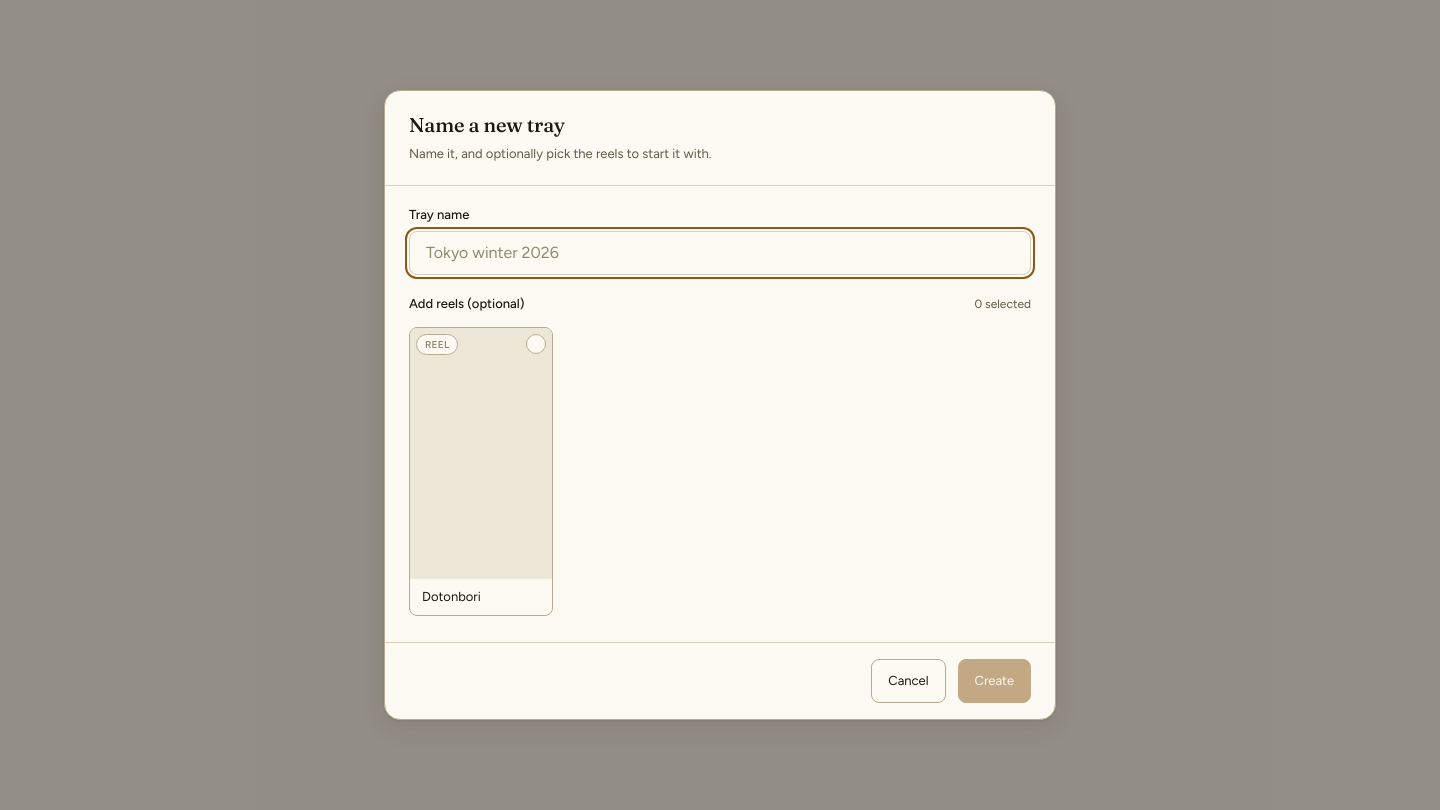
Test: CreateTrayDialog › disables the name input once the tray exists (partial-failure retry state)
Step 1. Click the button with aria-label "Select Dotonbori" → [481, 471], box x1=409 y1=327 x2=552 y2=616
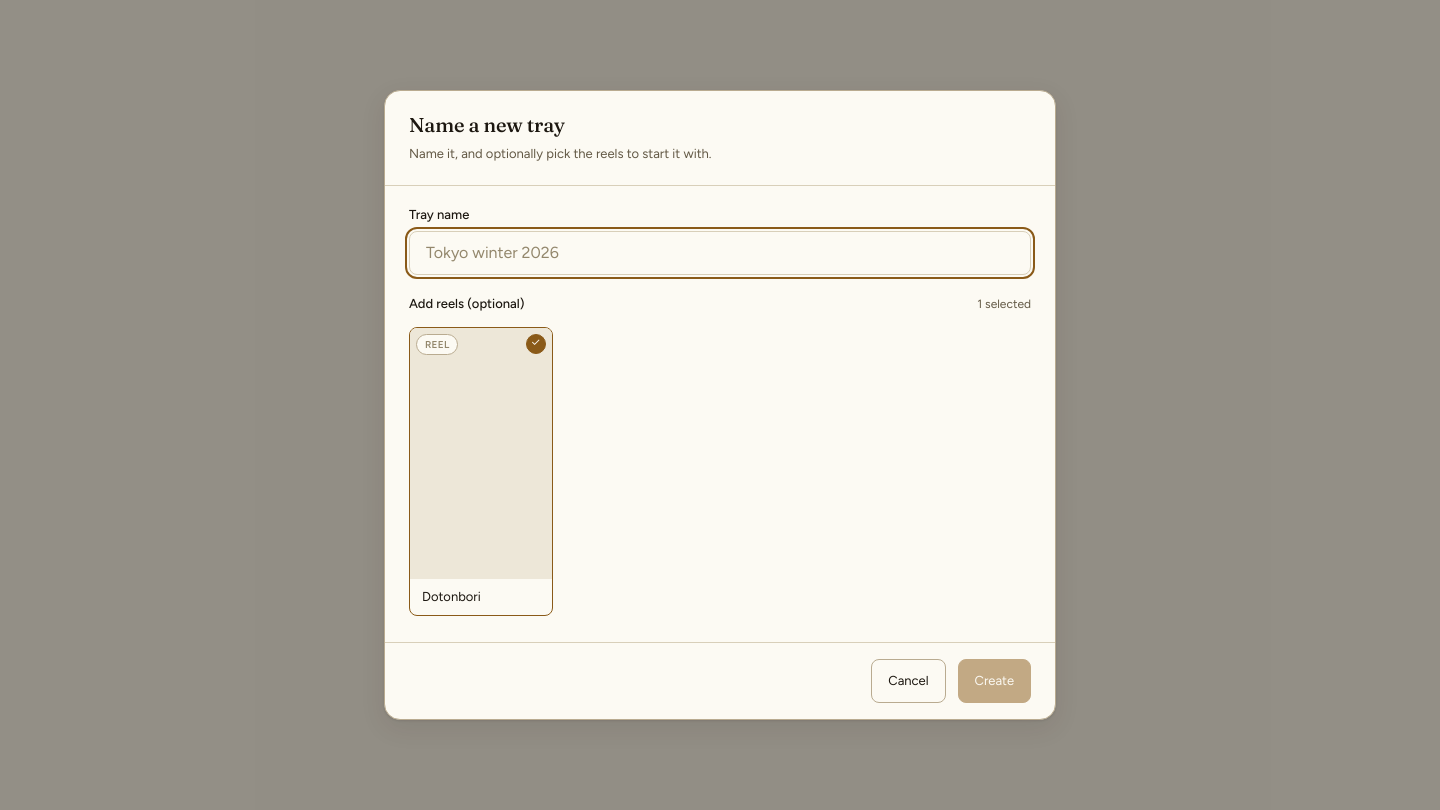
Step 2. Type "Osaka" into the field labelled "Tray name" → [720, 253], box x1=409 y1=231 x2=1031 y2=275
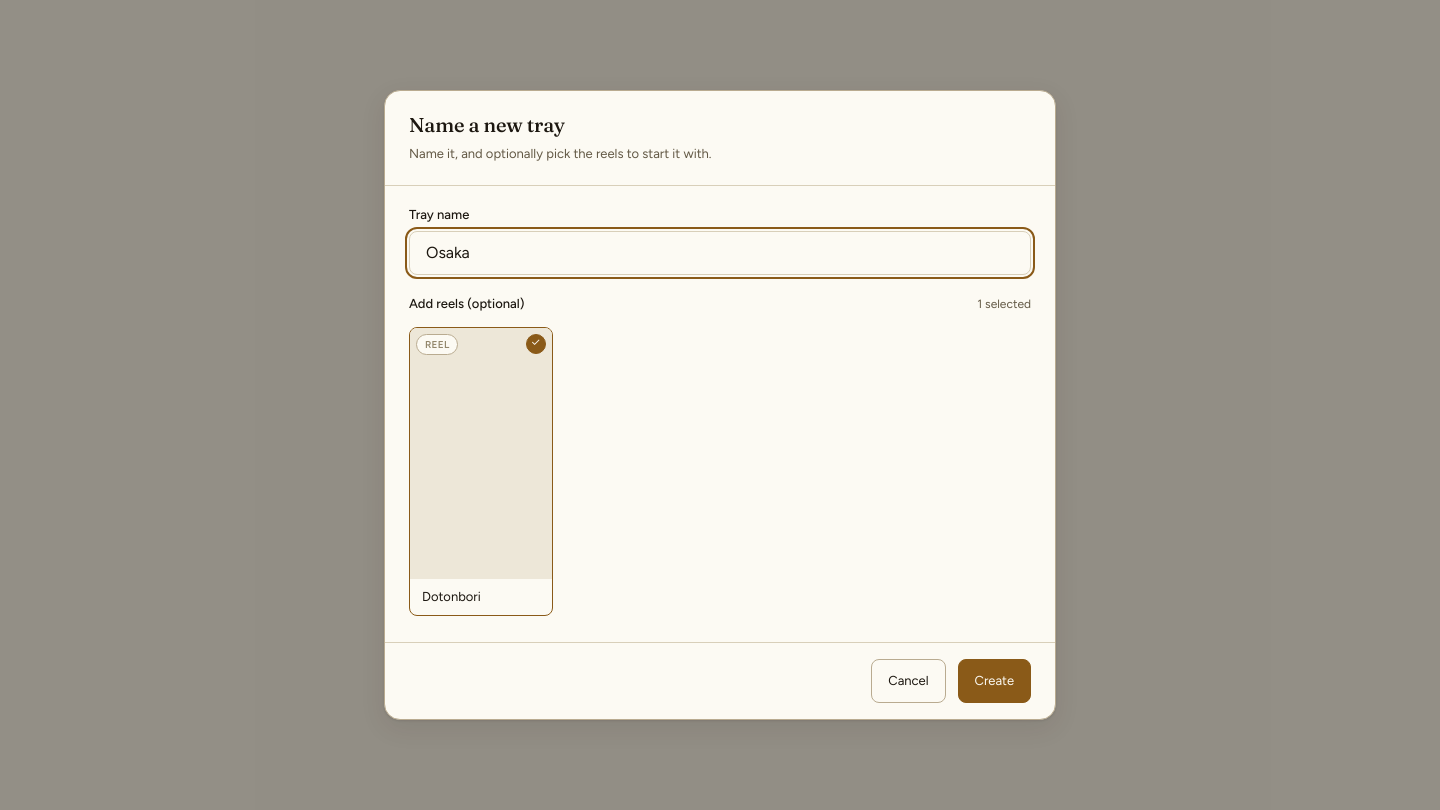
Step 3. Click the button "Create" → [994, 681], box x1=958 y1=659 x2=1031 y2=703
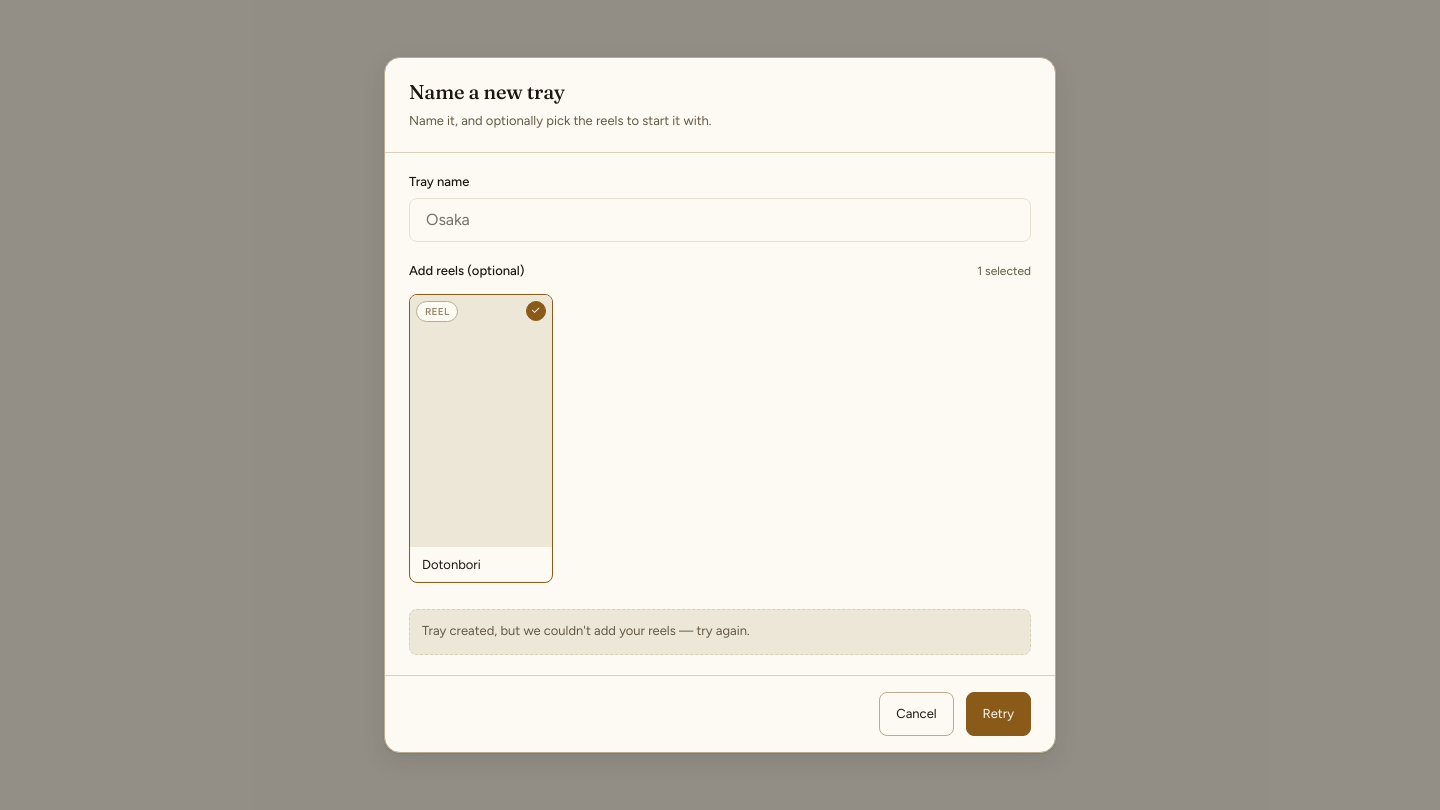
expect the button "Retry" is shown: met, box x1=966 y1=692 x2=1031 y2=736
expect the field labelled "Tray name" is disabled: met, box x1=409 y1=198 x2=1031 y2=242
